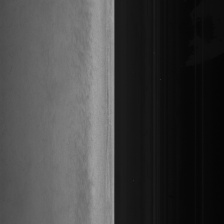silk_spot: (104, 108, 111, 199)
